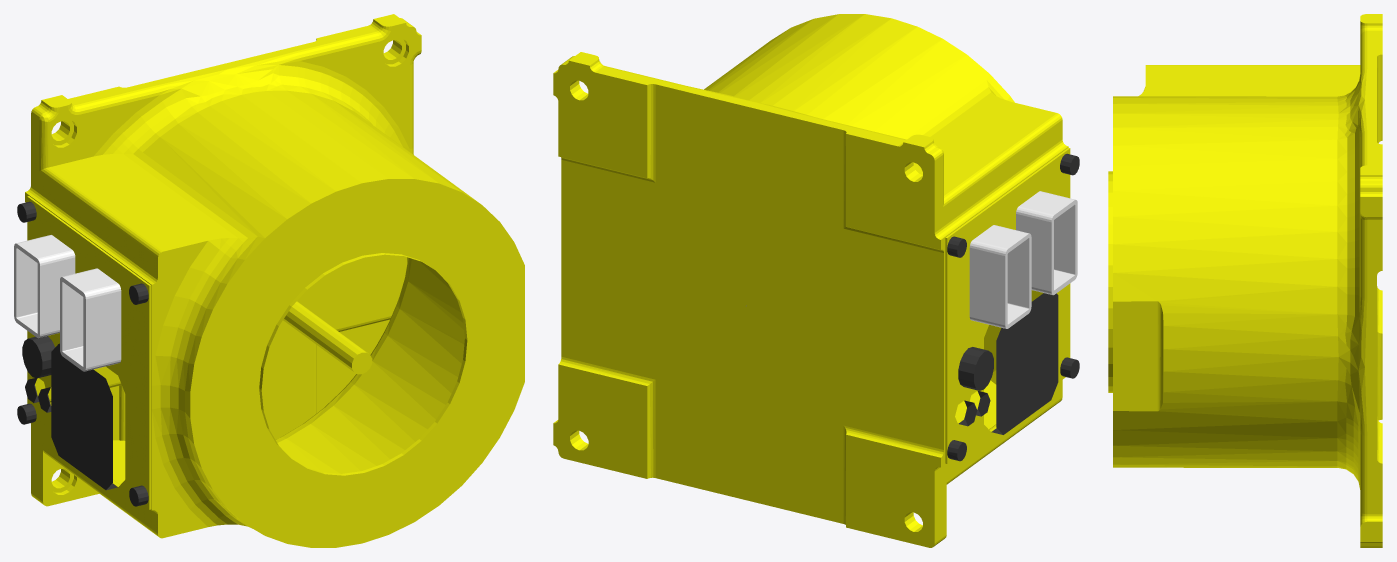
The picture shows the model from 3 angles, left to right: view 1: azimuth 30°, elevation 25°; view 2: azimuth 150°, elevation 25°; view 3: azimuth 270°, elevation 25°; orthographic projection. The views are drawn at different scales.
Visible parts, largest first — view 1: node; view 2: node; view 3: node.
Boxes of the visible parts, x1,y1,x2,y2 form: node: [14, 14, 524, 547]; node: [553, 14, 1079, 547]; node: [1108, 14, 1382, 547].
Size of the model in its own units: 407 by 365 by 245.
